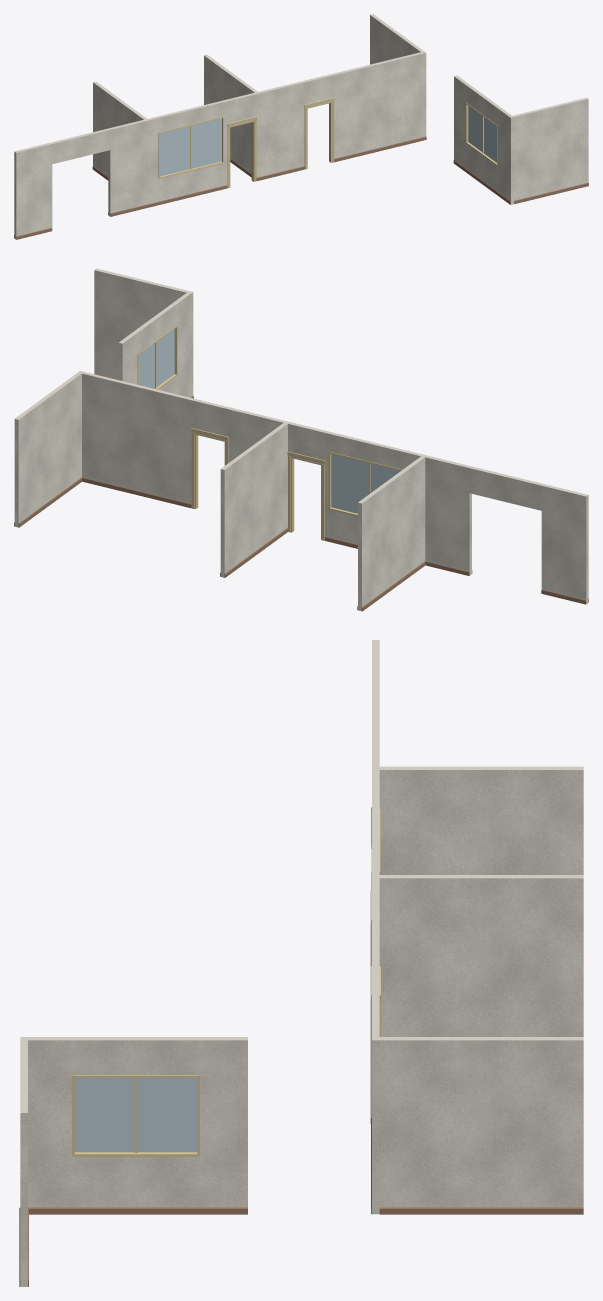
Rendered from plan.glb.
3 views of the same model, one above another, from view 1: azimuth 30°, elevation 25°; view 2: azimuth 150°, elevation 25°; view 3: azimuth 270°, elevation 25° (orthographic). The views are drawn at different scales.
Visible parts, largest first — view 1: plan_plaster, plan_glass, plan_dkwood, plan_frame, plan_gold; view 2: plan_plaster, plan_glass, plan_dkwood, plan_frame, plan_gold; view 3: plan_plaster, plan_glass, plan_dkwood, plan_gold.
Part boxes in pixels (<box>): plan_plaster: <box>14,14,588,239</box>; plan_glass: <box>160,106,496,176</box>; plan_dkwood: <box>14,136,588,239</box>; plan_frame: <box>227,97,334,188</box>; plan_gold: <box>158,102,497,178</box>; plan_plaster: <box>14,268,588,611</box>; plan_glass: <box>138,329,400,513</box>; plan_dkwood: <box>14,374,588,611</box>; plan_frame: <box>191,428,324,540</box>; plan_gold: <box>137,325,402,516</box>; plan_plaster: <box>20,640,583,1286</box>; plan_glass: <box>74,1077,197,1152</box>; plan_dkwood: <box>19,807,583,1286</box>; plan_gold: <box>72,808,380,1156</box>.
Bounding box in the file's own units: 17.5 × 3 × 8.83.
5 materials, 1 textured.
